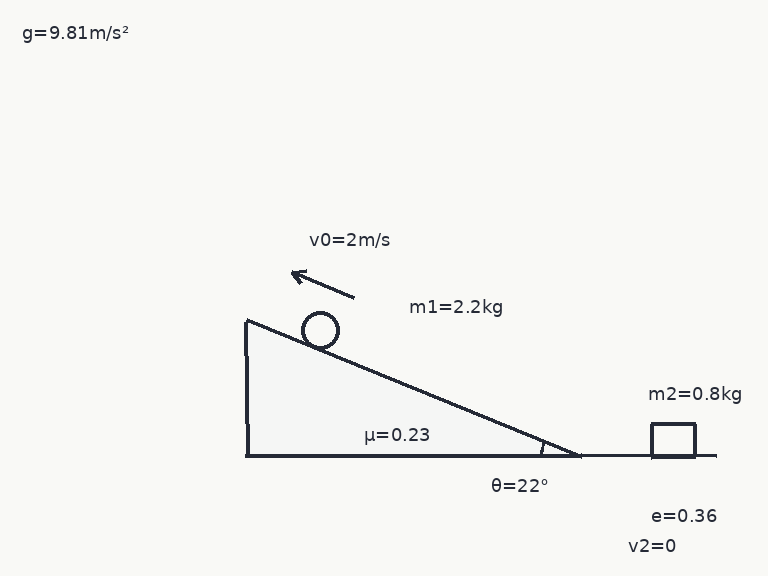ball: (299, 309, 341, 351)
block: (649, 422, 697, 458)
ramp: (244, 319, 583, 458)
